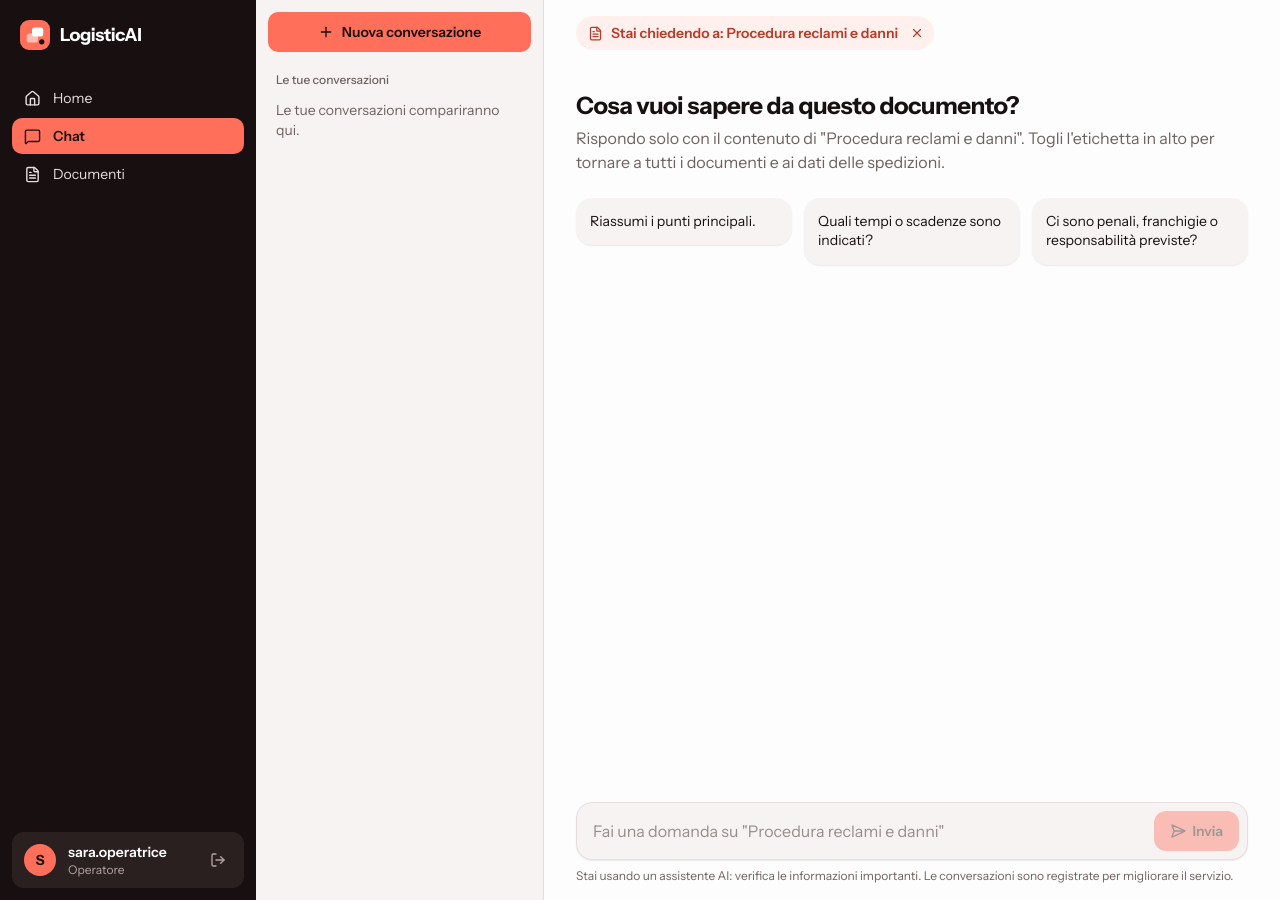
Test: chat con ambito › "Chiedi a questo documento": etichetta arancio, ambito inviato e conservato, poi rimovibile
Expected: the text "Stai chiedendo a: Procedura reclami e danni" is shown, [611,23,898,43]
Expected: the heading "Cosa vuoi sapere da questo documento?" is shown, [576,91,1019,120]
Type "Entro quando va segnalato un danno occulto?" into the text box named "Scrivi una domanda".
click(866, 831); type("Entro quando va segnalato un danno occulto?")  # box [585,811,1146,851]
Then press Enter
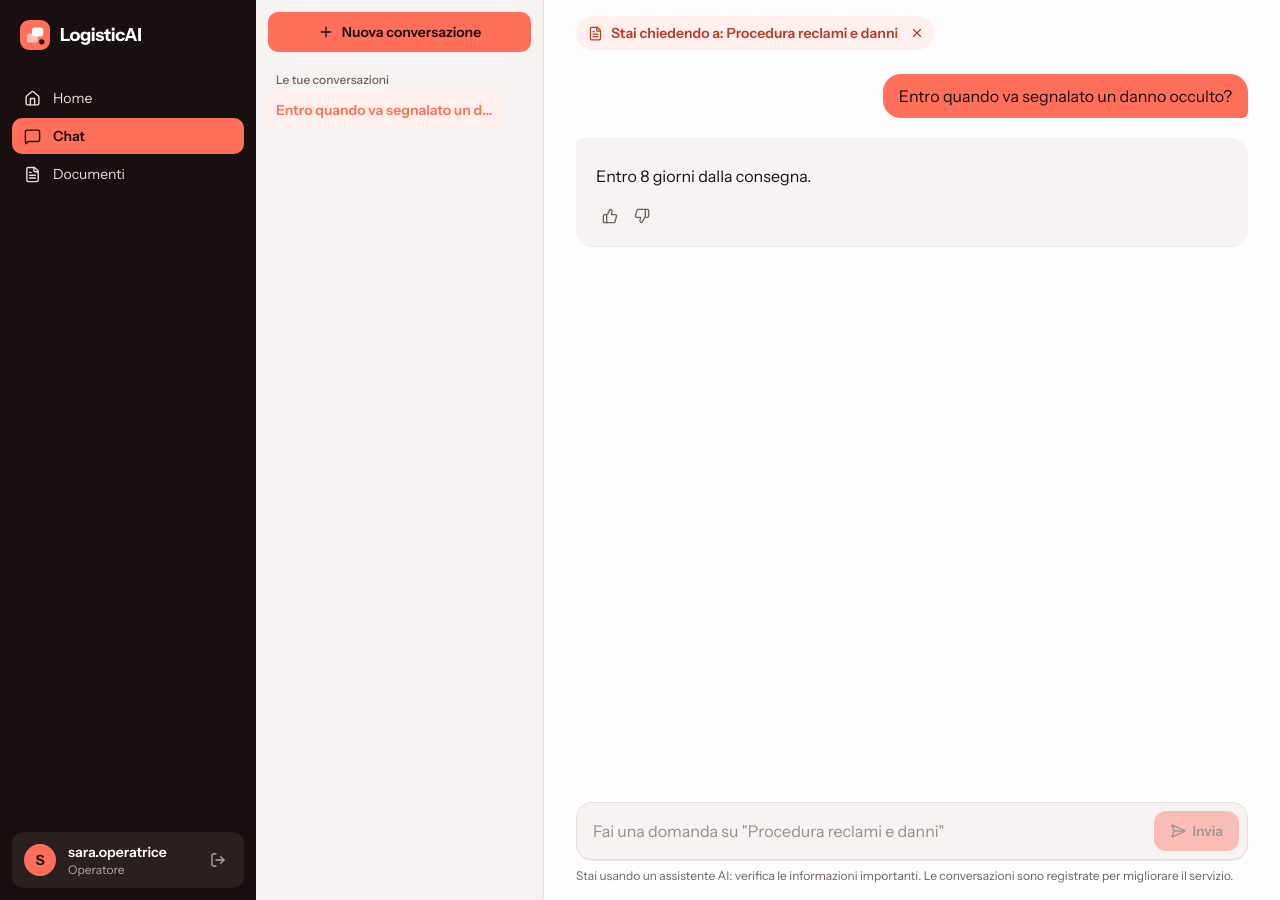
Expected: the text "Stai chiedendo a: Procedura reclami e danni" is shown, [611,23,898,43]
Expected: the text "Entro 8 giorni dalla consegna." is shown, [596,166,811,186]
Click the button named "Togli l'ambito e chiedi a tutta la piattaforma".
click(917, 33)  # box [906,22,928,44]
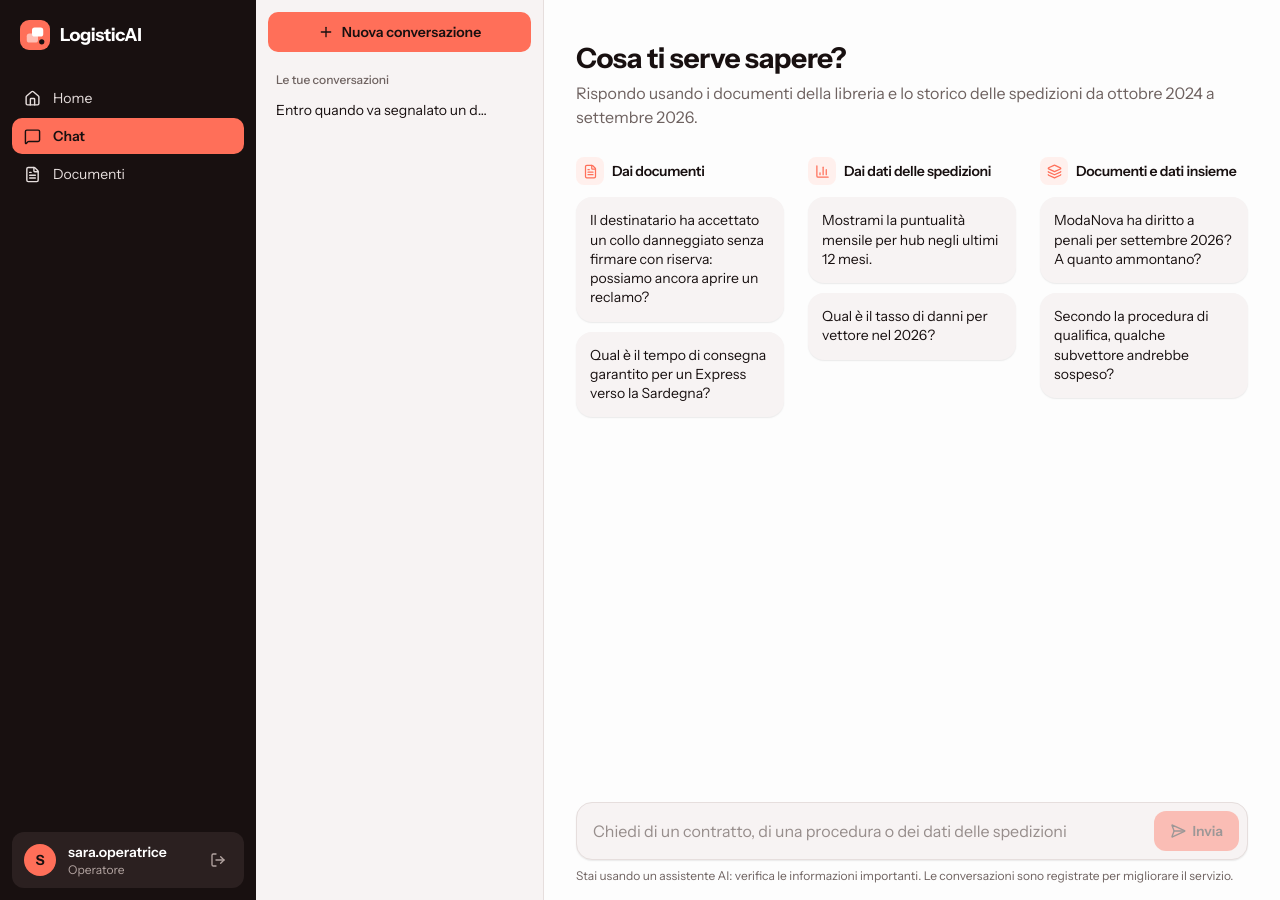
Expected: the text "Stai chiedendo a" is gone
Expected: the heading "Cosa ti serve sapere?" is shown, [576,41,846,75]
